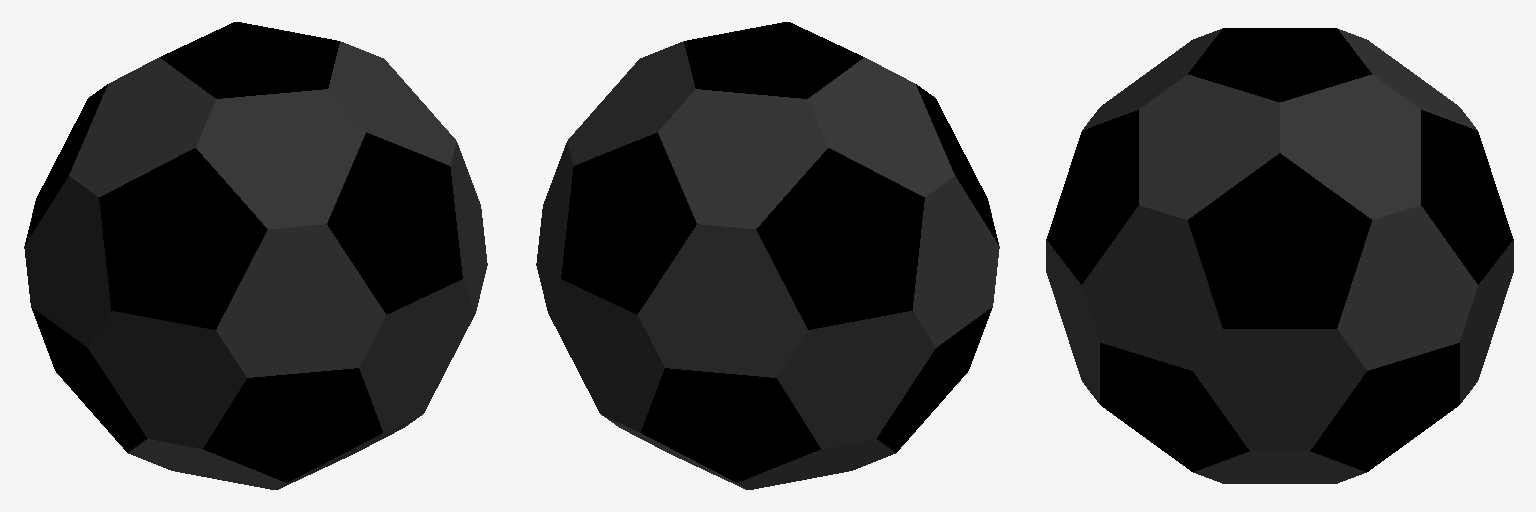
Rendered from FootballBall1.obj.
3 views of the same model, side by side, from view 1: azimuth 30°, elevation 25°; view 2: azimuth 150°, elevation 25°; view 3: azimuth 270°, elevation 25° (orthographic).
Parts seen in each view (by area): view 1: FootballBall1_Icosphere; view 2: FootballBall1_Icosphere; view 3: FootballBall1_Icosphere.
Boxes of the visible parts, box(x1,y1,x2,y2) form: FootballBall1_Icosphere: box(24, 22, 487, 489); FootballBall1_Icosphere: box(536, 22, 999, 489); FootballBall1_Icosphere: box(1046, 28, 1513, 483).
Bounding box in the file's own units: 0.3393 × 0.3206 × 0.349.